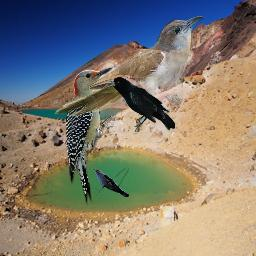Crow: (106, 77, 175, 132)
Cuckoo: (54, 15, 204, 116), (92, 168, 129, 197)
Woodpecker: (66, 64, 117, 208)
